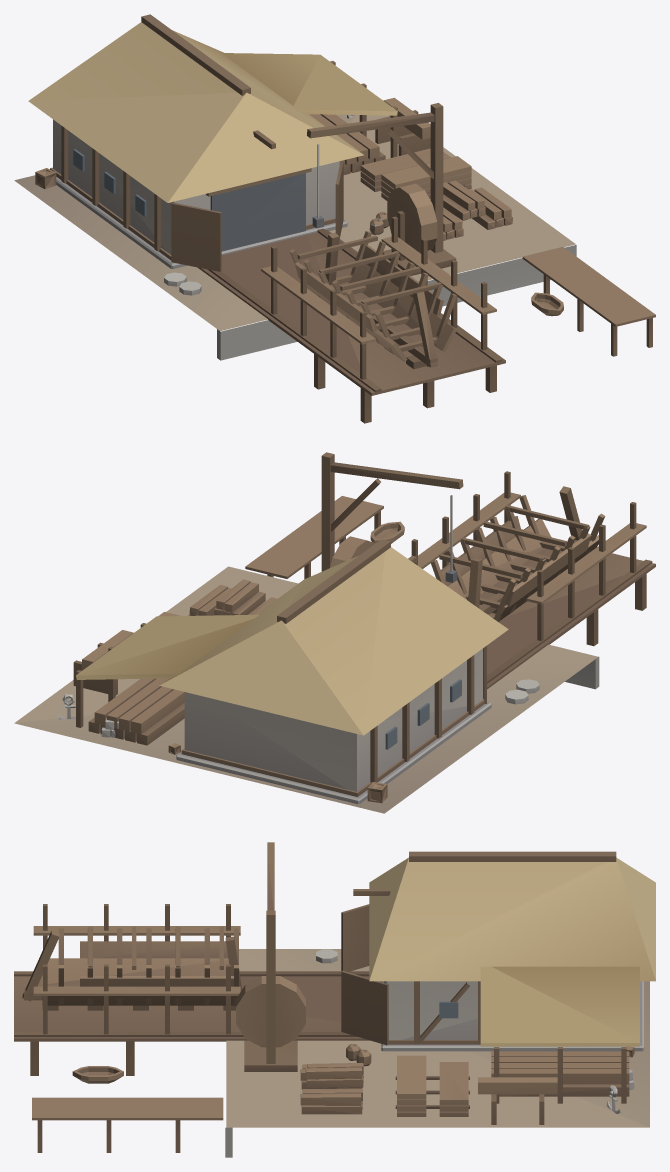
Rendered from shipyard.glb.
3 views of the same model, one above another, from view 1: azimuth 30°, elevation 25°; view 2: azimuth 150°, elevation 25°; view 3: azimuth 270°, elevation 25° (orthographic). The views are drawn at different scales.
Parts seen in each view (by area): view 1: shipyard; view 2: shipyard; view 3: shipyard.
Boxes of the visible parts, left/top/right/bottom form: shipyard: left=14, top=14, right=655, bottom=423; shipyard: left=14, top=452, right=655, bottom=813; shipyard: left=14, top=842, right=655, bottom=1157.
Size of the model in its own units: 7.96 by 4.11 by 12.09.
